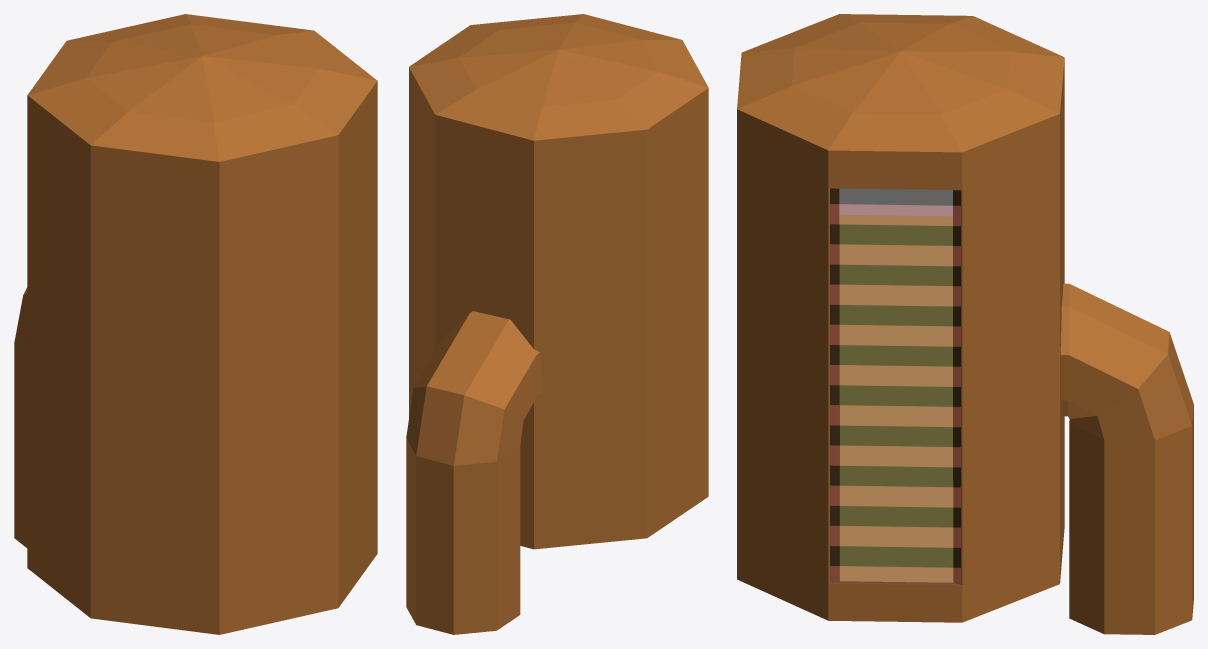
The model's file is VAT180.glb.
The picture shows the model from 3 angles, left to right: view 1: azimuth 30°, elevation 25°; view 2: azimuth 150°, elevation 25°; view 3: azimuth 270°, elevation 25°; orthographic projection. The views are drawn at different scales.
Parts seen in each view (by area): view 1: Cylinder, Cylinder.001; view 2: Cylinder, Cylinder.001; view 3: Cylinder, glass, liquidHeight, Cylinder.001.
Boxes of the visible parts, box(x1,y1,x2,y2) form: Cylinder: box(27, 14, 377, 634); Cylinder.001: box(14, 287, 27, 547); Cylinder: box(409, 14, 708, 549); Cylinder.001: box(406, 311, 541, 634); Cylinder: box(737, 14, 1064, 622); glass: box(830, 188, 960, 584); liquidHeight: box(839, 189, 952, 582); Cylinder.001: box(1060, 283, 1193, 634).
Bounding box in the file's own units: 1.82 × 3.44 × 2.54.
4 materials, 1 textured.
